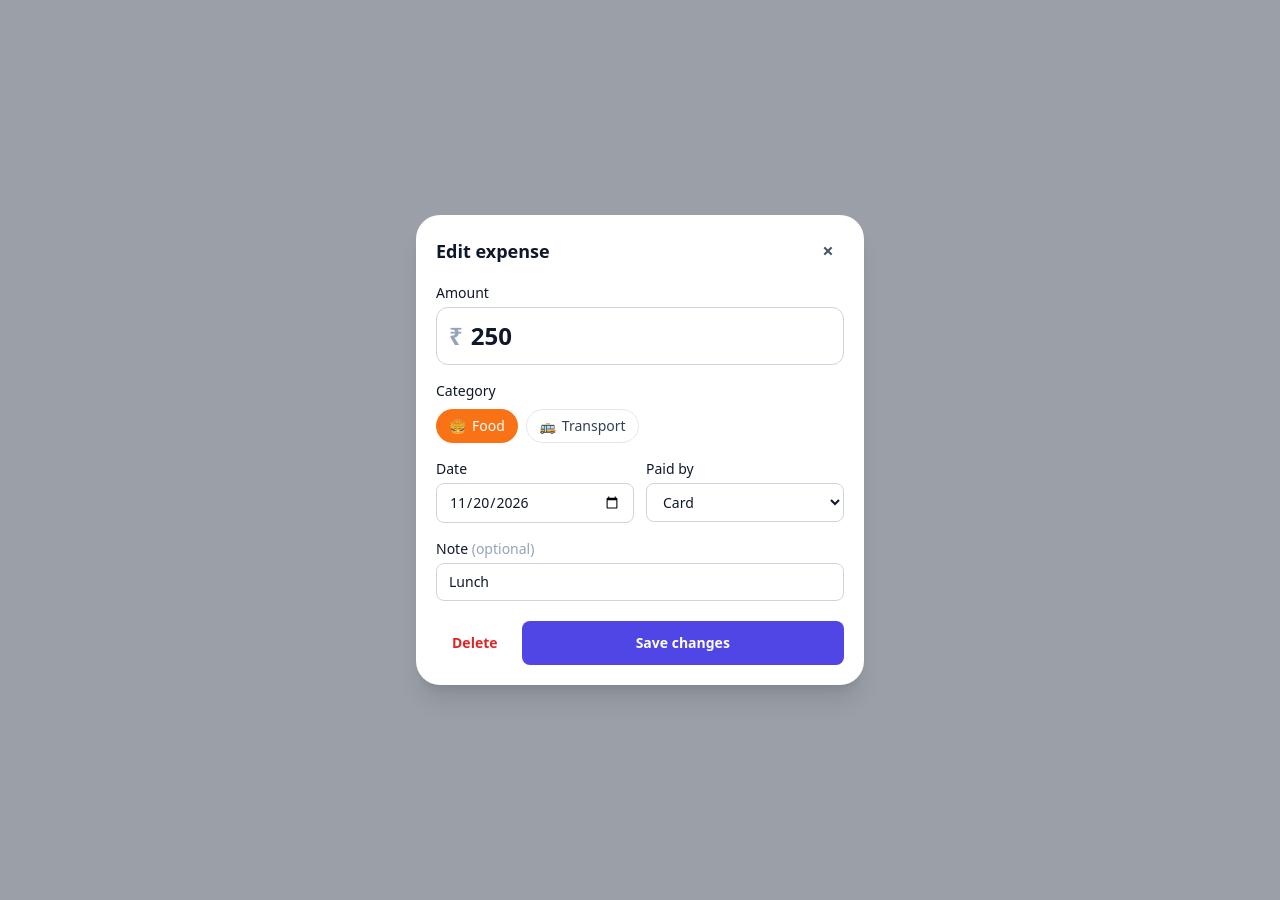
Test: edit mode › shows an error and stays open when delete fails
This screenshot has width=1280, height=900.
Click the button "Delete": (475, 643) left=436, top=621, right=514, bottom=665
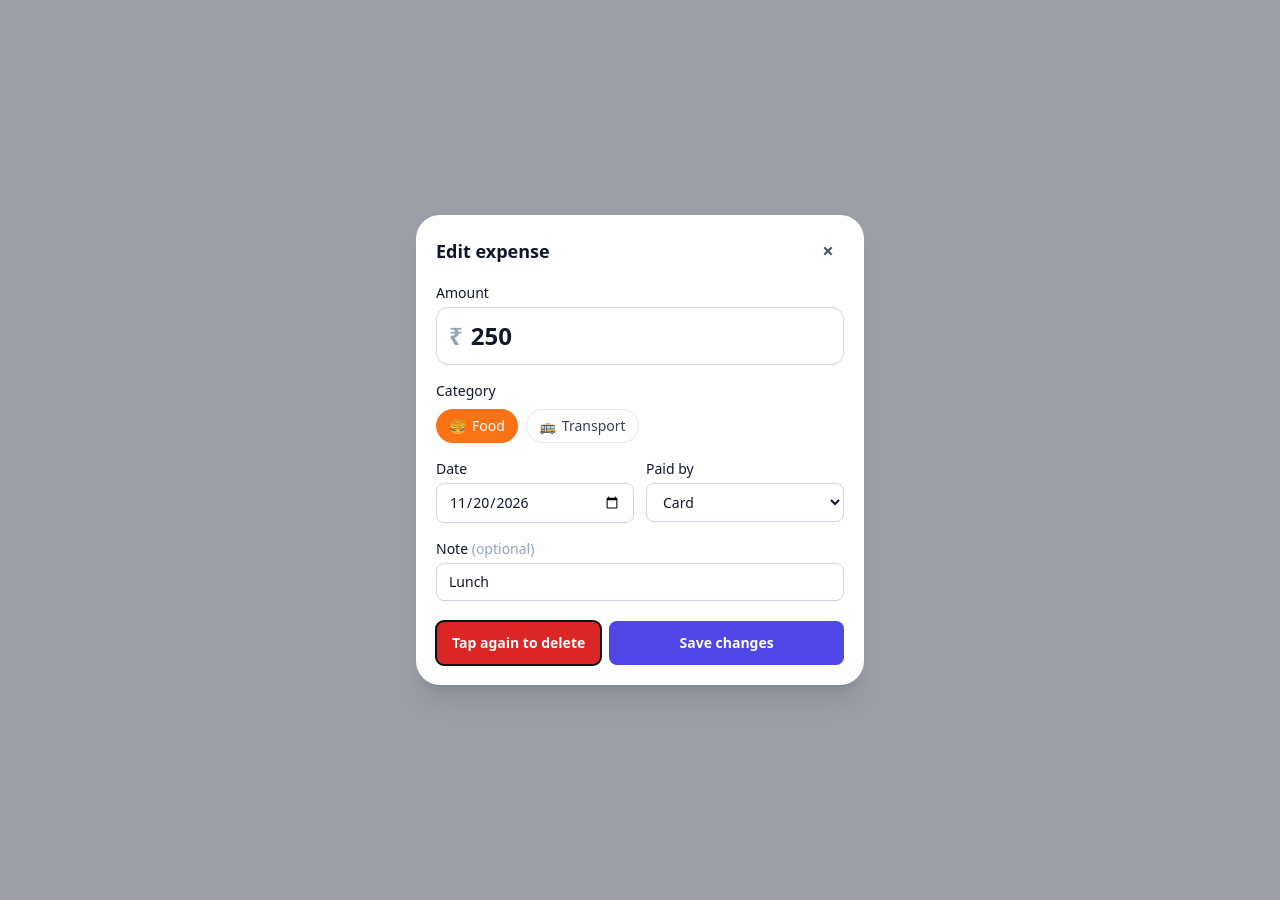
Click the button "Tap again to delete": (519, 643) left=436, top=621, right=601, bottom=665
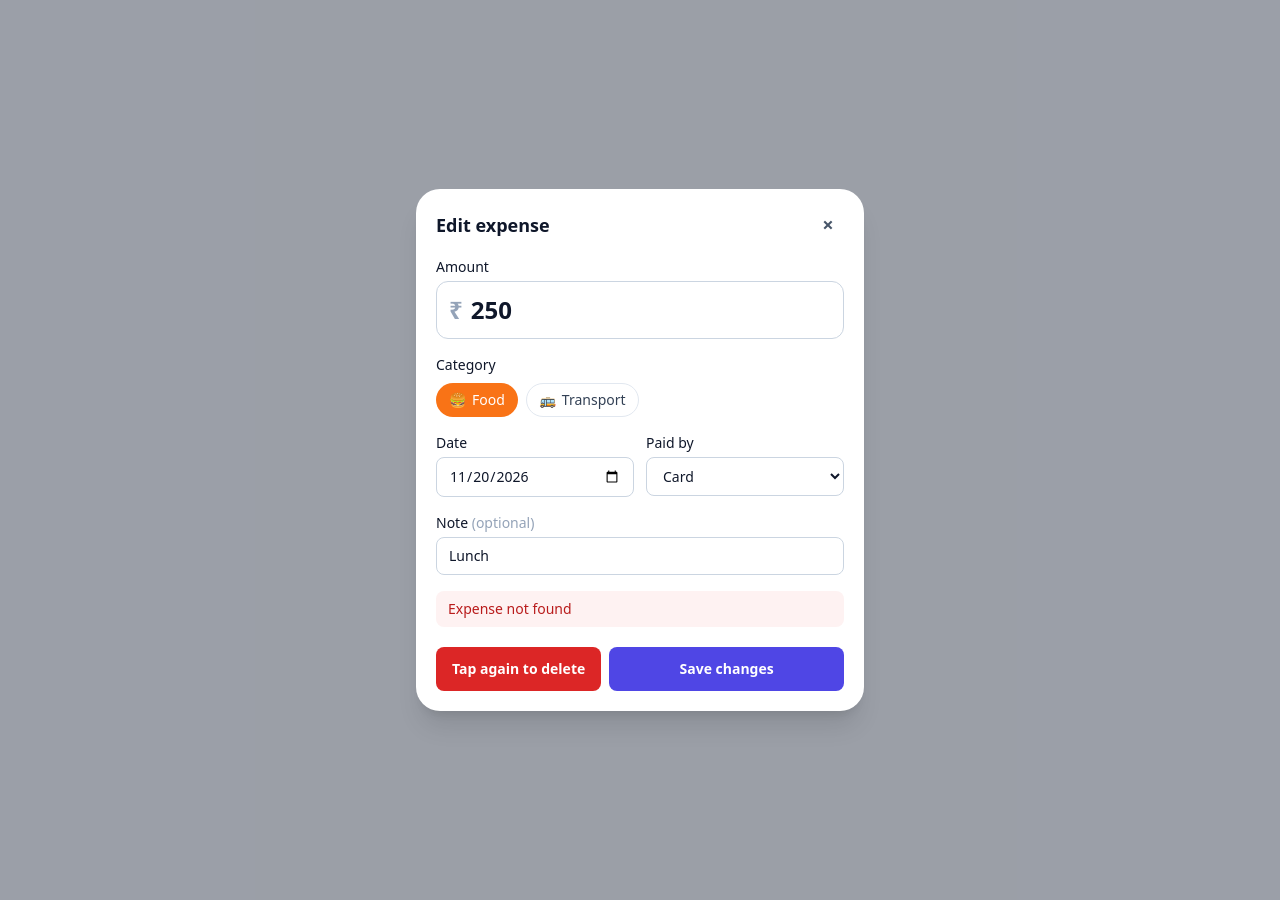
Result: the text "Expense not found" is shown at left=436, top=591, right=844, bottom=627
